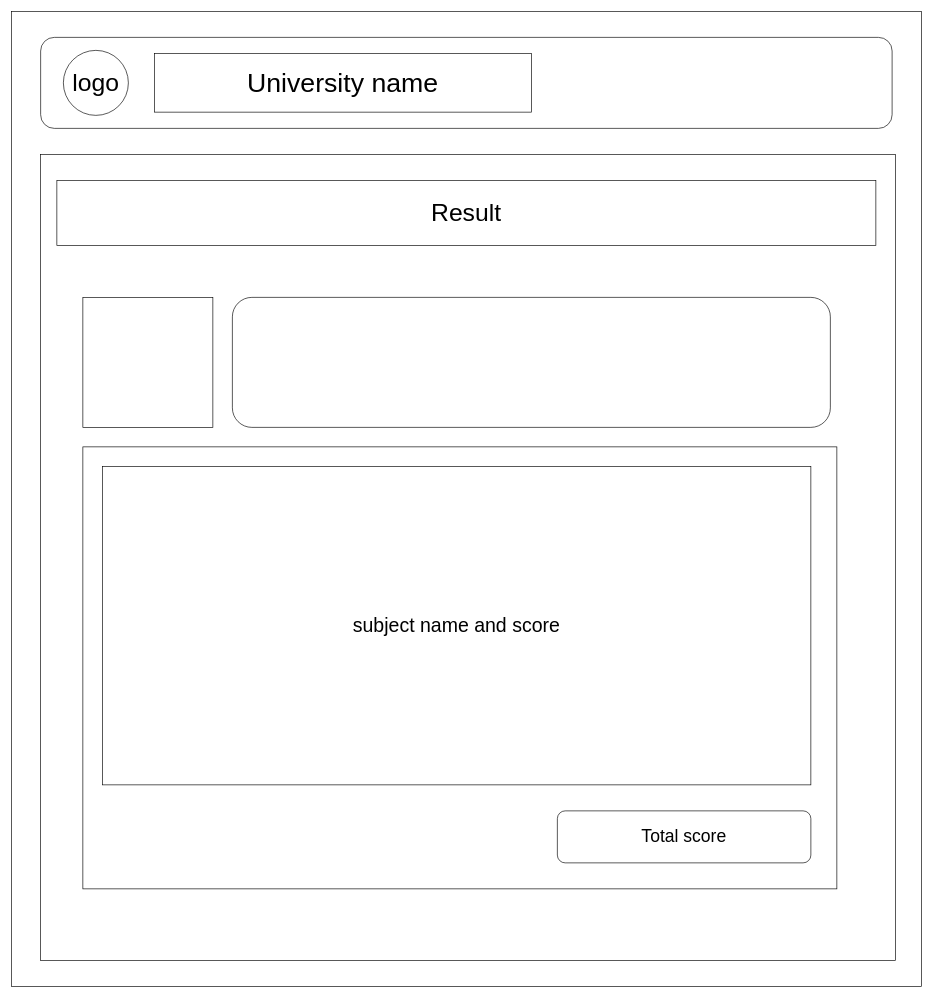
The diagram is 933 pixels wide and 998 high, and some of its shapes have lost their labels. Each missing label, with the centre of its shape:
"Profile Pic" goes at pixel 147 362.
"Student name ID" goes at pixel 531 362.
